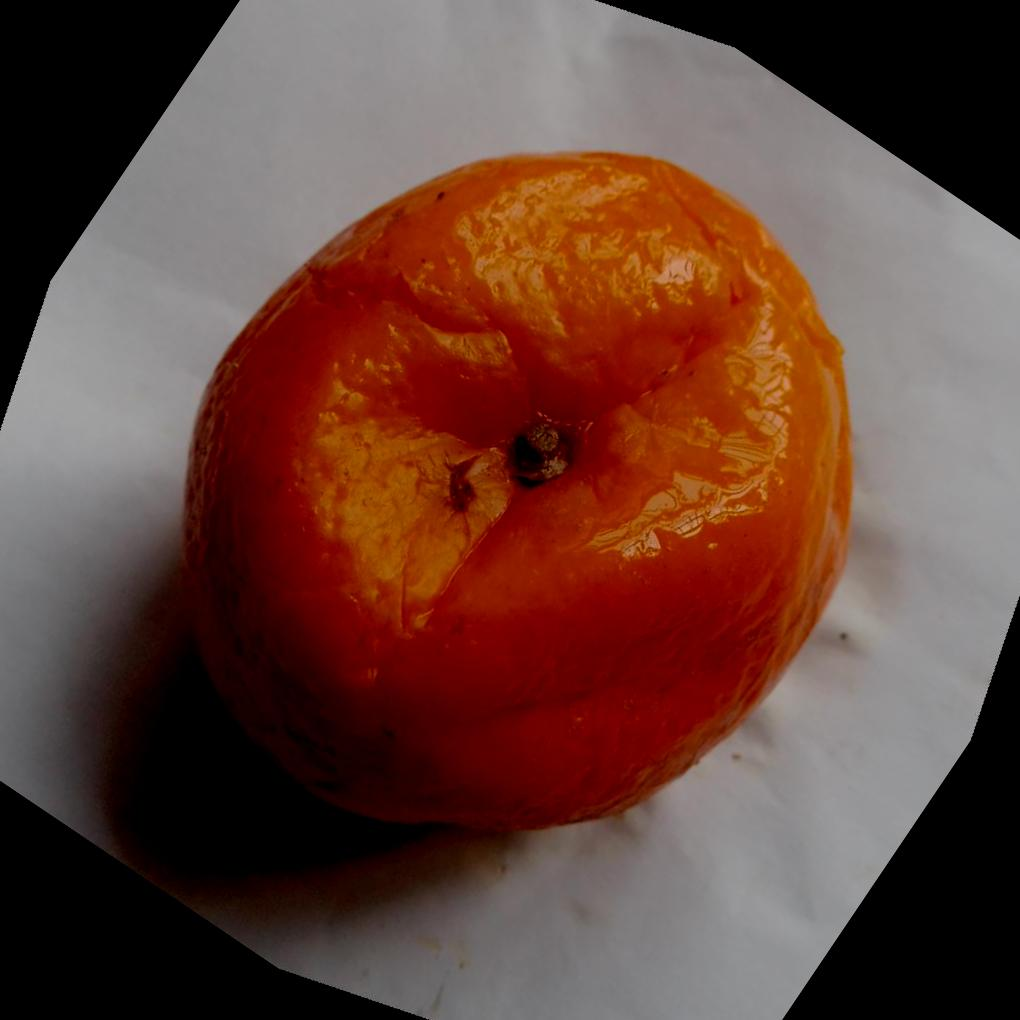FreshOrange: (181, 149, 856, 834)
